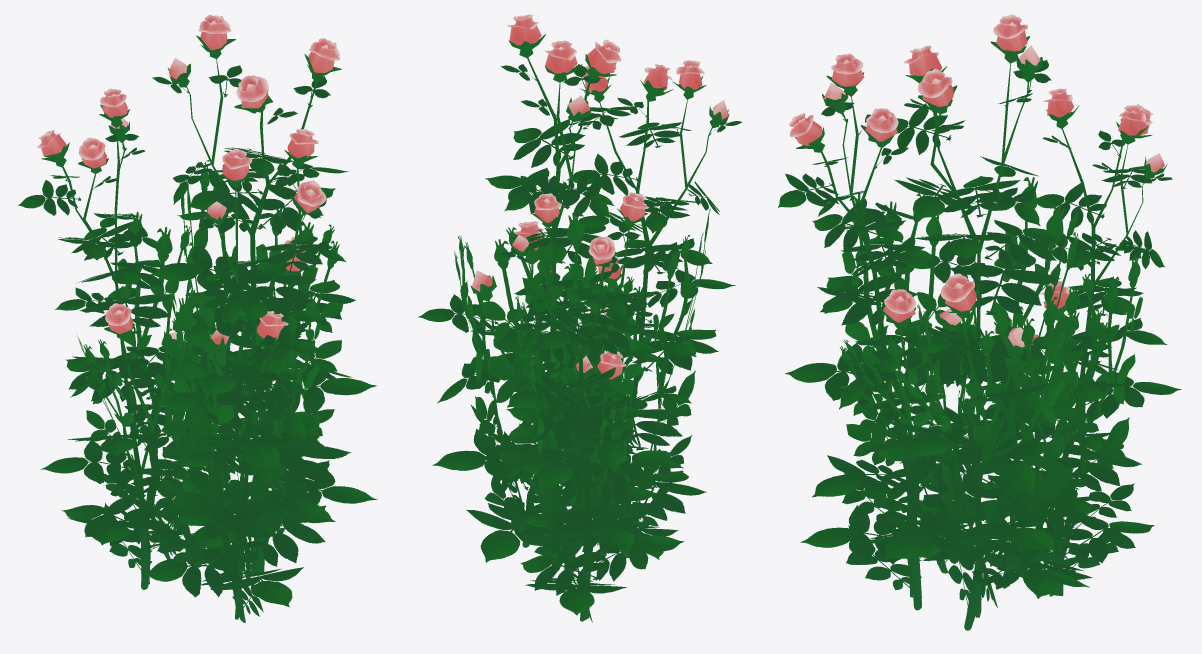
Rendered from PT_Rose_03.fbx.
3 renders of one model, left to right at view 1: azimuth 30°, elevation 25°; view 2: azimuth 150°, elevation 25°; view 3: azimuth 270°, elevation 25°, orthographic. The views are drawn at different scales.
Parts seen in each view (by area): view 1: PT_Rose_03_LOD0; view 2: PT_Rose_03_LOD0; view 3: PT_Rose_03_LOD0.
Part boxes in pixels (bbox=[...]): PT_Rose_03_LOD0: bbox=[18, 15, 377, 622]; PT_Rose_03_LOD0: bbox=[418, 14, 742, 622]; PT_Rose_03_LOD0: bbox=[778, 14, 1181, 630].
Size of what is drawn, in the model's own units: 72.62 by 146 by 90.64.
